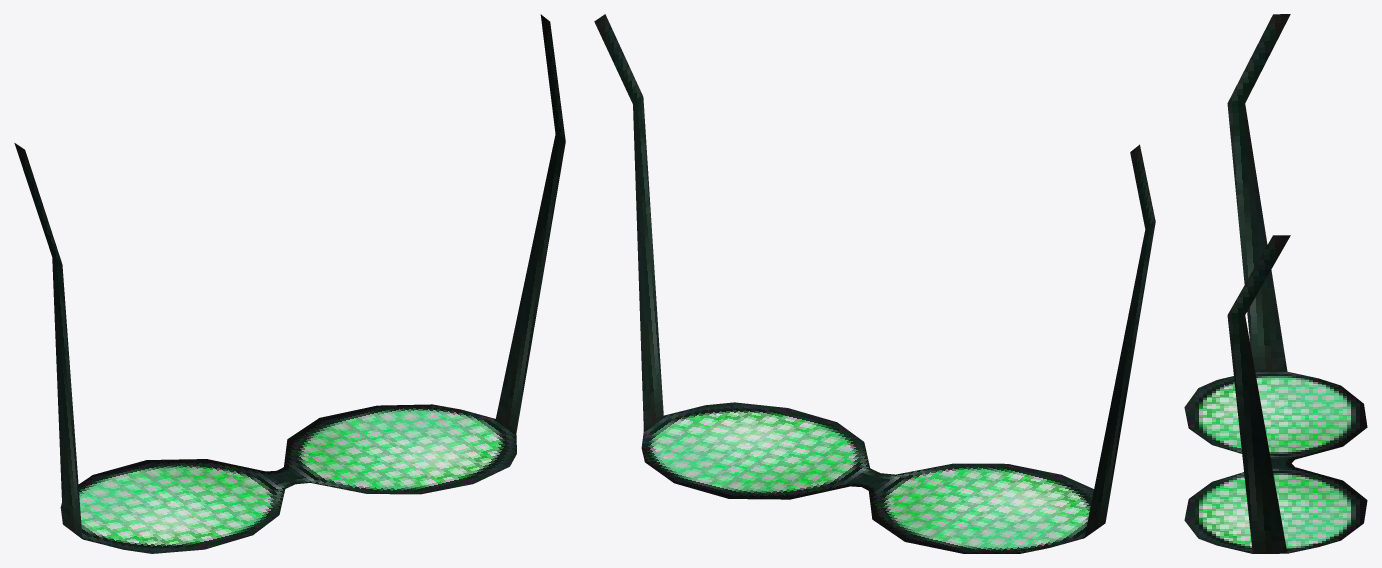
File: tt_m_chr_avt_acc_msk_insectEyeGlasses.glb
3 renders of one model, left to right at view 1: azimuth 30°, elevation 25°; view 2: azimuth 150°, elevation 25°; view 3: azimuth 270°, elevation 25°, orthographic. The views are drawn at different scales.
Visible parts, largest first — view 1: tt_m_chr_avt_acc_msk_insectEyeGlasses; view 2: tt_m_chr_avt_acc_msk_insectEyeGlasses; view 3: tt_m_chr_avt_acc_msk_insectEyeGlasses.
Part boxes in pixels (<box>): tt_m_chr_avt_acc_msk_insectEyeGlasses: <box>14,14,565,553</box>; tt_m_chr_avt_acc_msk_insectEyeGlasses: <box>594,14,1155,553</box>; tt_m_chr_avt_acc_msk_insectEyeGlasses: <box>1184,14,1367,553</box>.
Size of the model in its own units: 3.93 by 2.81 by 1.37.
Materials: 1 (1 with a texture image).
